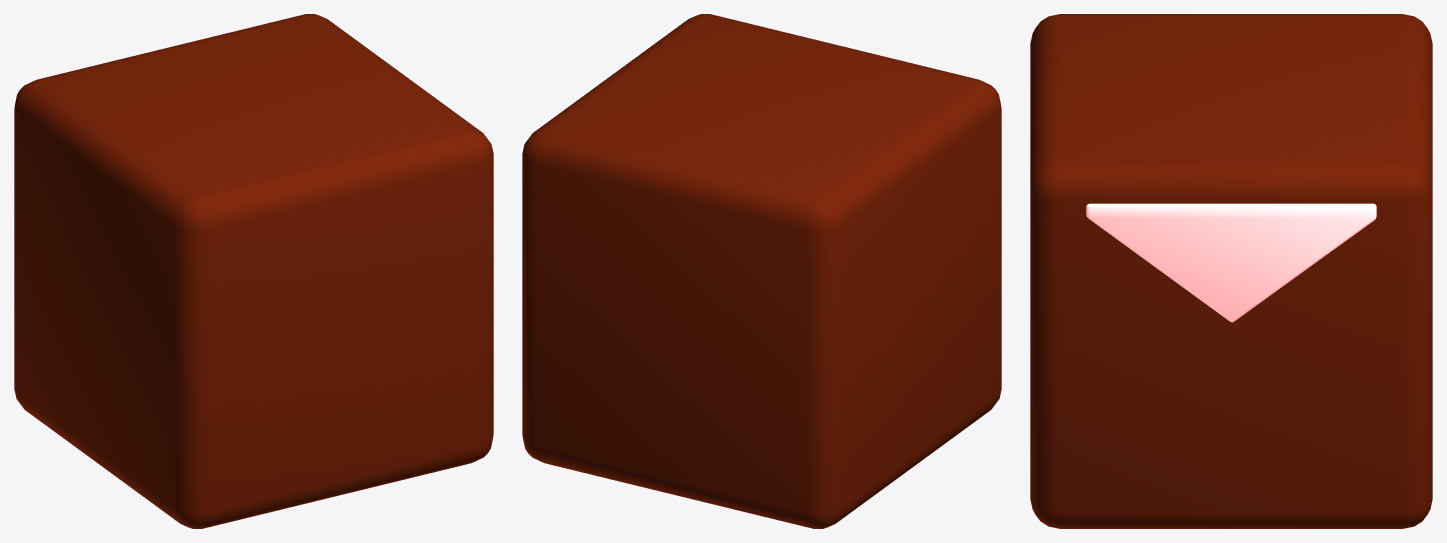
File: obstacle.fbx
3 renders of one model, left to right at view 1: azimuth 30°, elevation 25°; view 2: azimuth 150°, elevation 25°; view 3: azimuth 270°, elevation 25°, orthographic. The views are drawn at different scales.
Parts seen in each view (by area): view 1: Cube; view 2: Cube; view 3: Cube, Plane.
Part boxes in pixels (x1,y1,x2,y2): Cube: (14,14,493,528); Cube: (522,14,1001,528); Cube: (1030,14,1432,528); Plane: (1086,203,1376,322).
Size of the model in its own units: 202 by 200 by 200.
